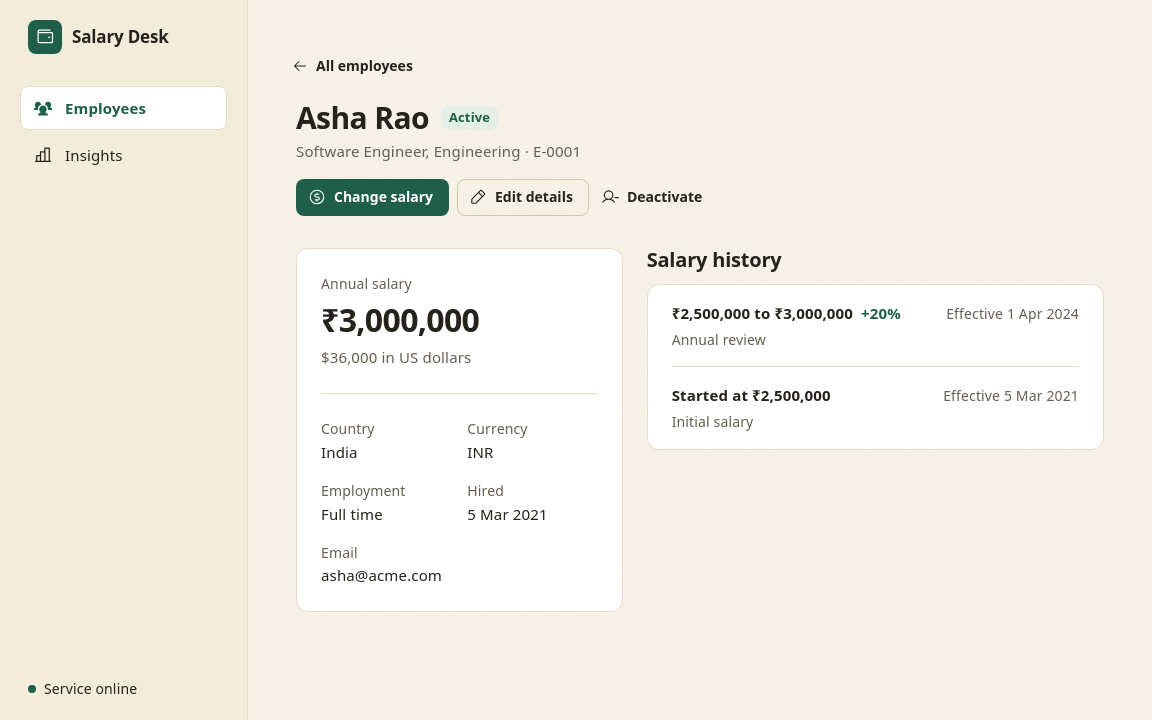
Test case: Change salary dialog › shows conflicts as a message inside the dialog
Click the button "Change salary".
click(372, 197)  # box [296,179,449,216]
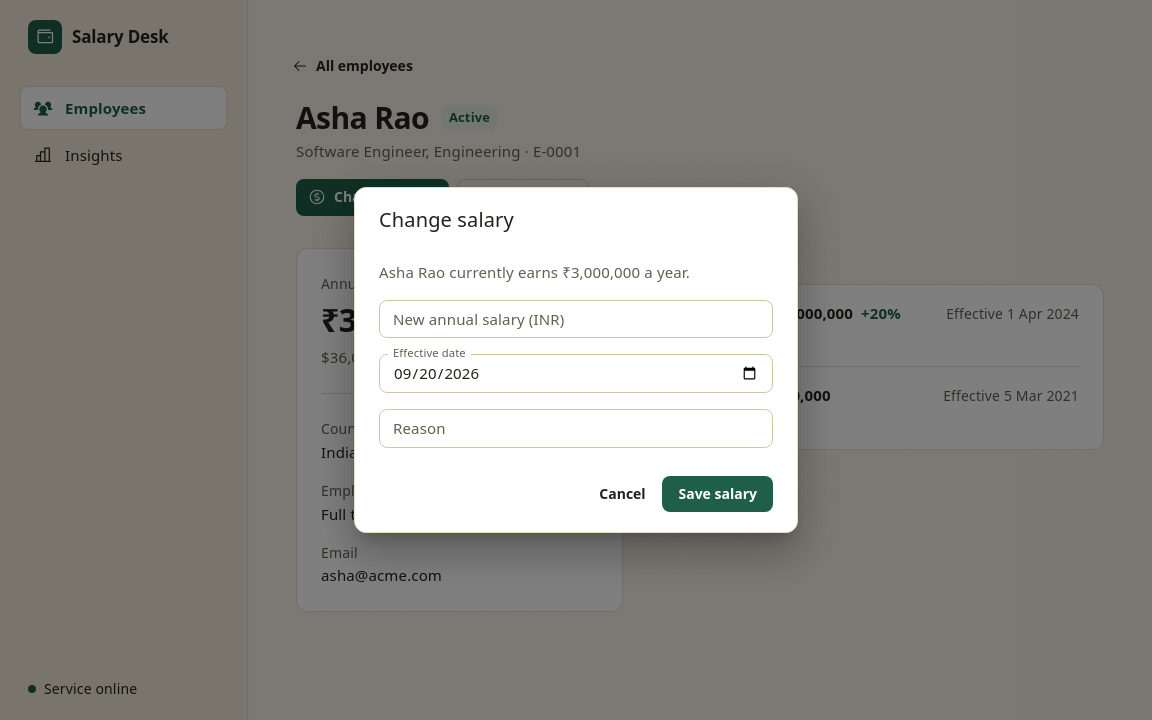
Type "3300000" into the field labelled "New annual salary (INR)".
click(576, 319); type("3300000")  # box [379,300,773,338]
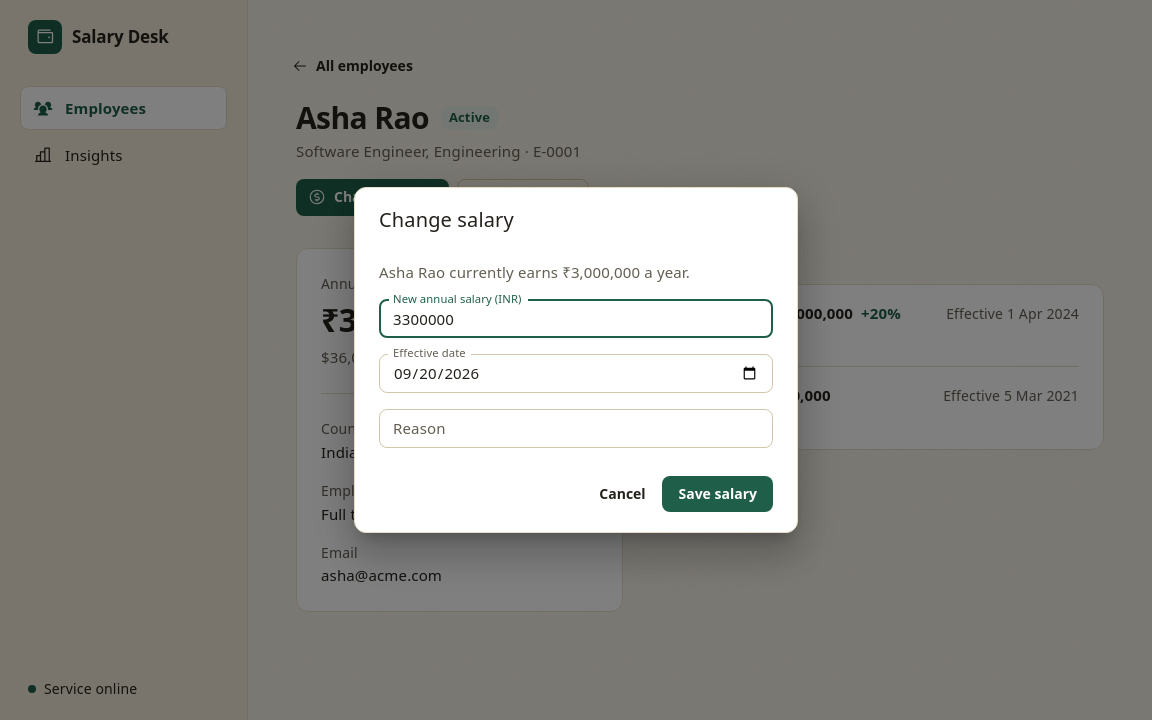
Type "Promotion" into the field labelled "Reason".
click(576, 428); type("Promotion")  # box [379,409,773,448]
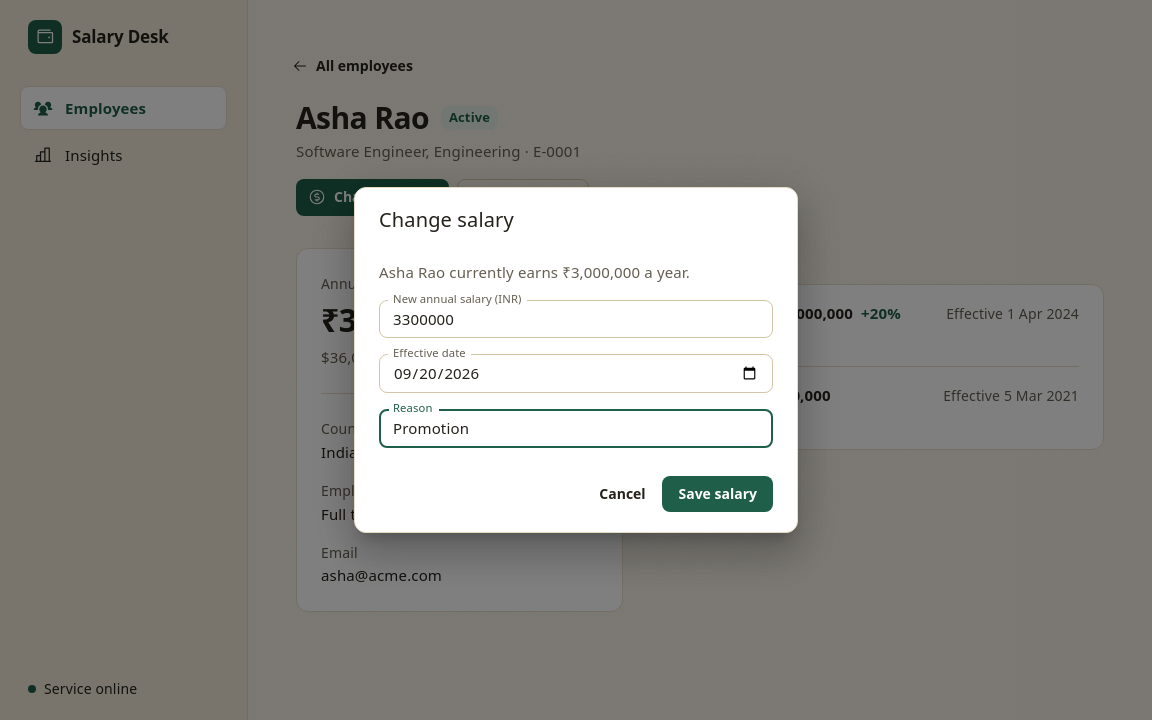
Click the button "Save salary".
click(718, 494)  # box [662,476,773,512]
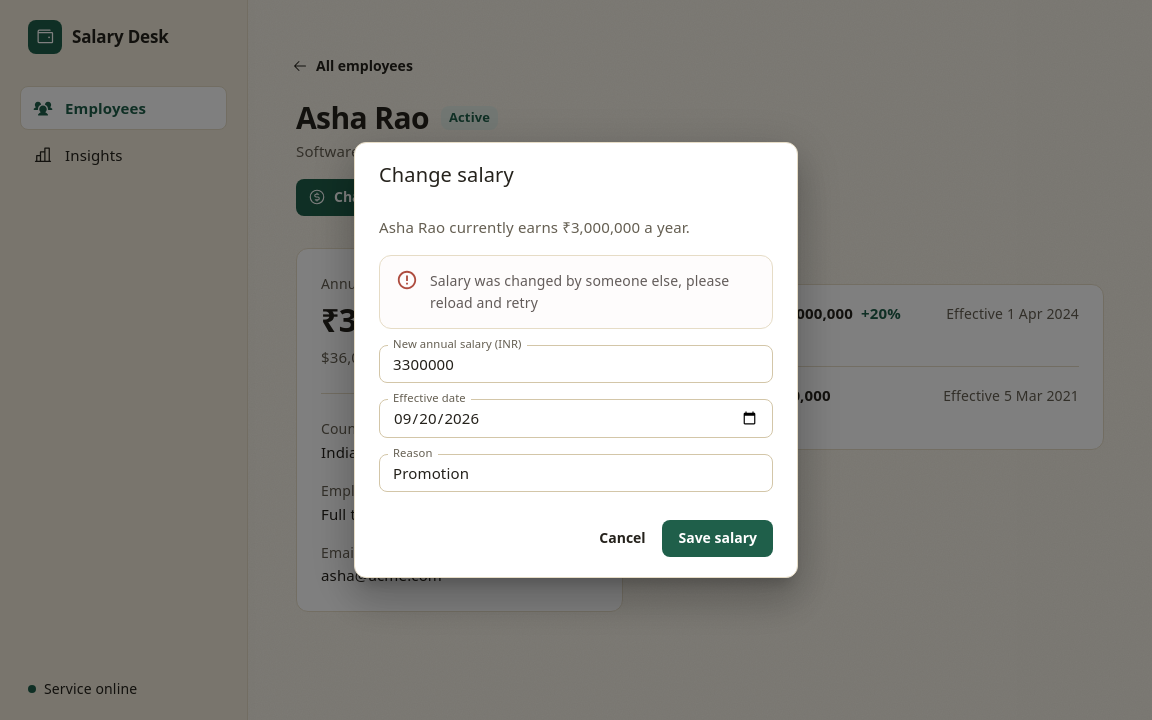
Now the message shows "changed by someone else", box [430,271,729,312]
